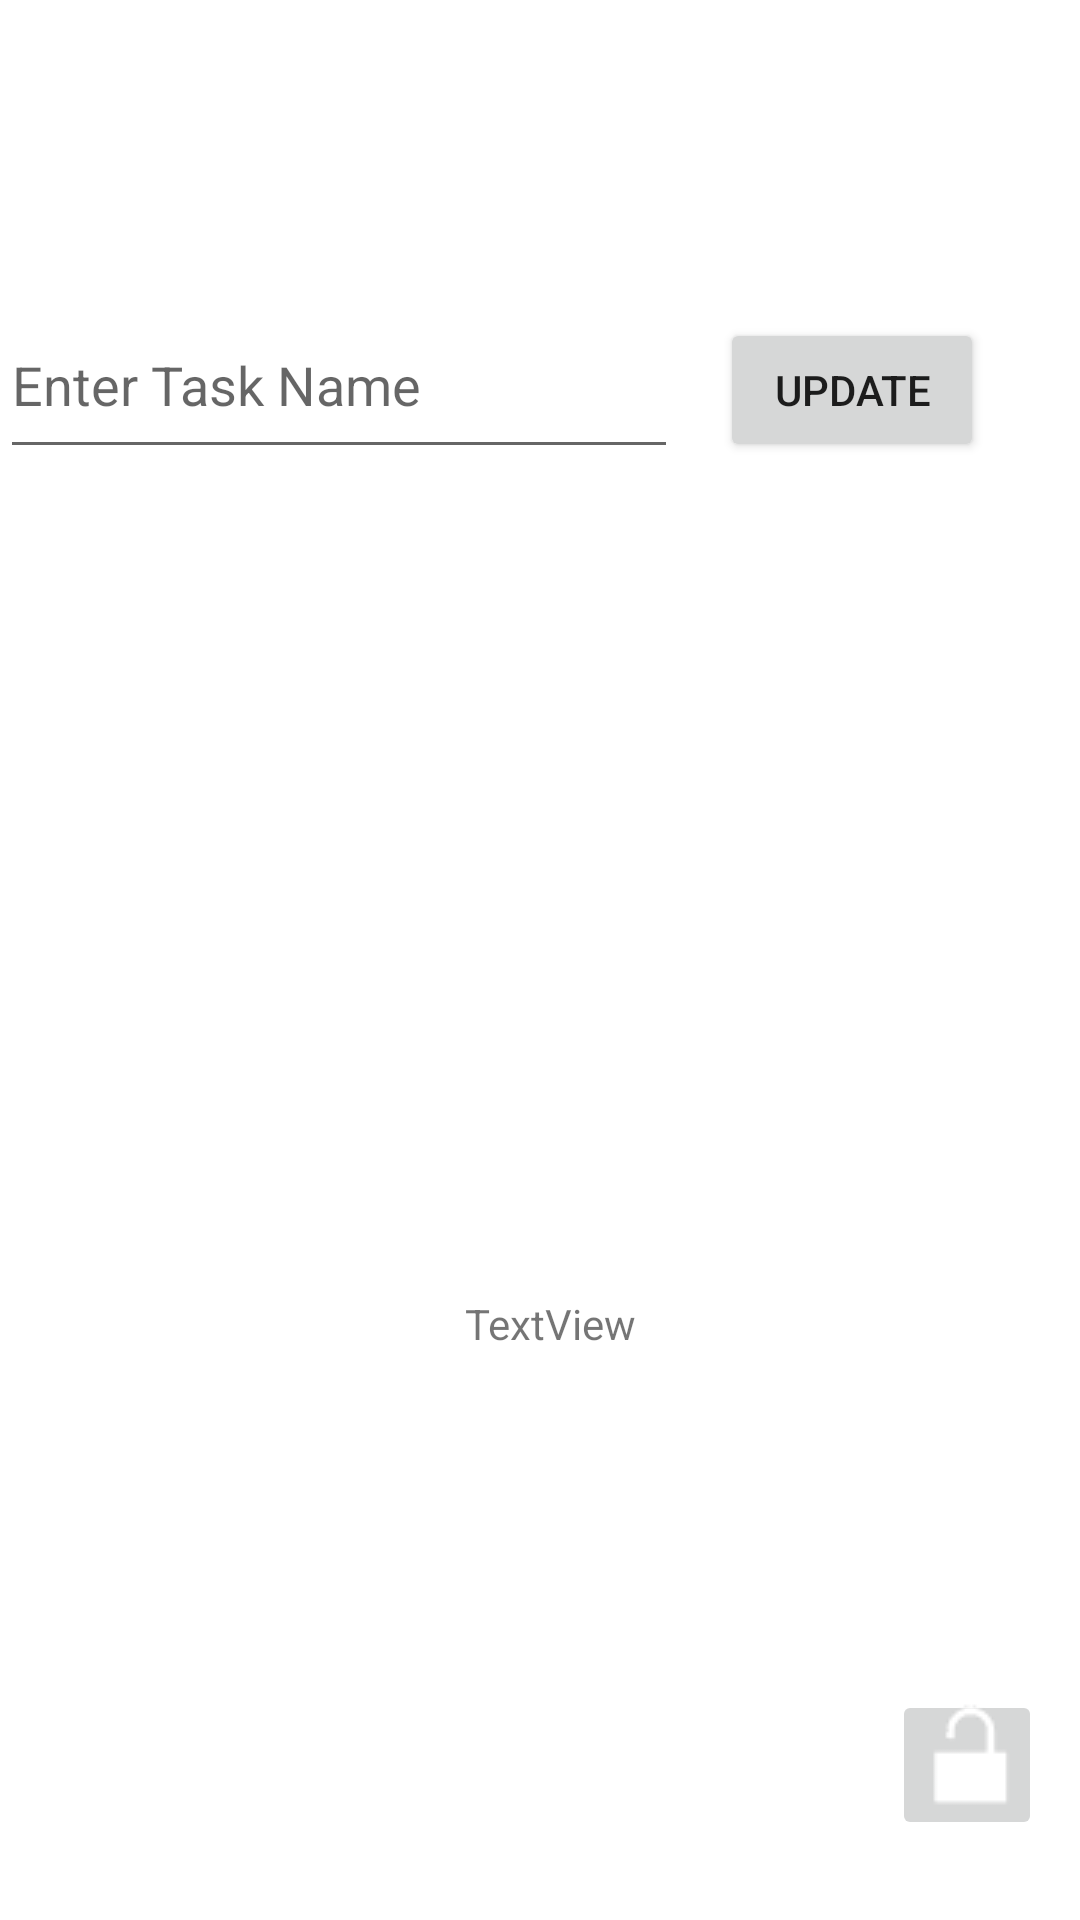

Named icons in this screenshot (1080px x 1920px) and their bounding boxes, (x1=x1, y1=y1, x2=x2, y2=y2):
unlock: (x1=904, y1=1708, x2=1030, y2=1822)
